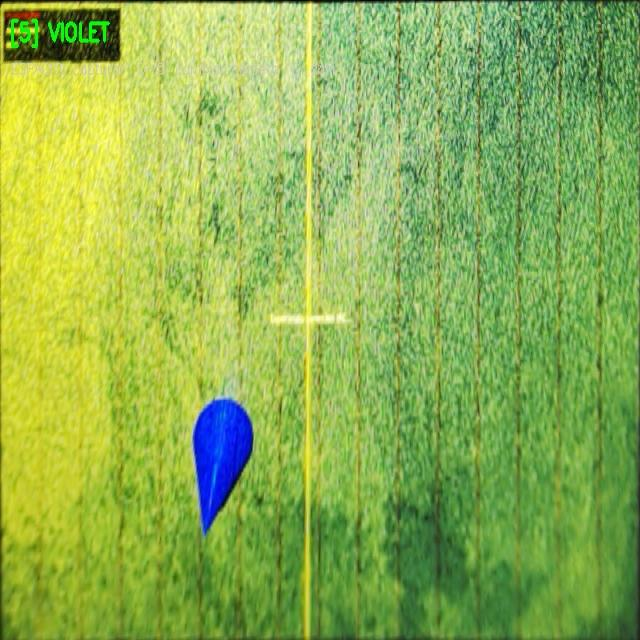violet: (193, 399, 252, 535)
